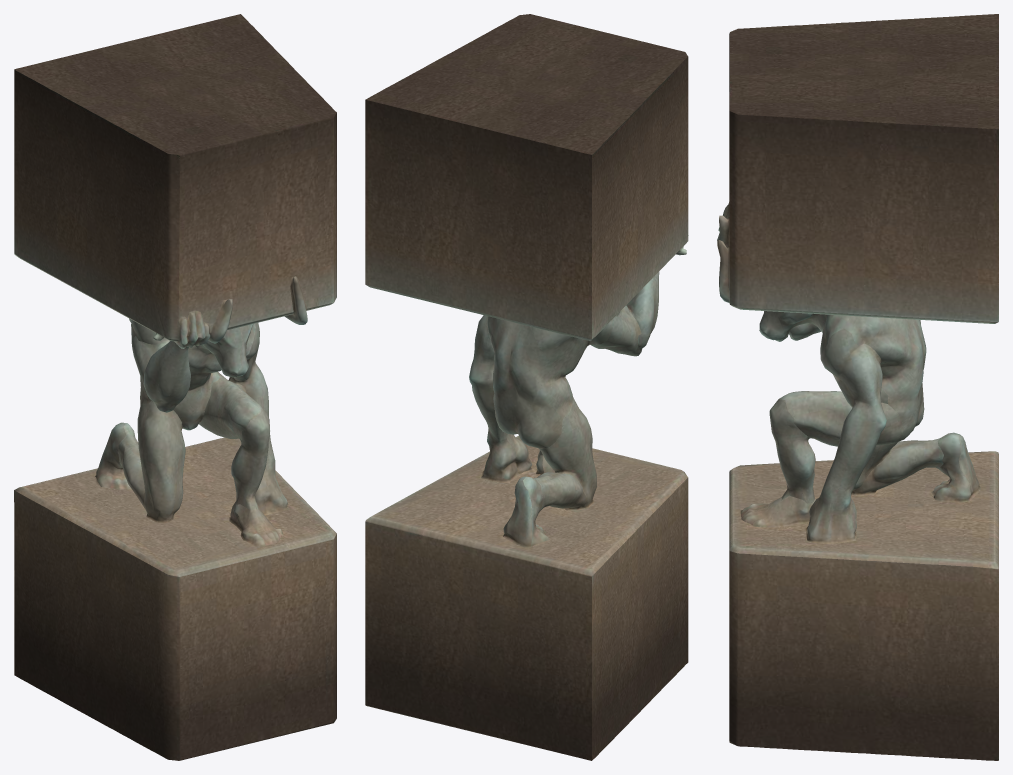
Rendered from minotaur.gltf.
The picture shows the model from 3 angles, left to right: view 1: azimuth 30°, elevation 25°; view 2: azimuth 150°, elevation 25°; view 3: azimuth 270°, elevation 25°; orthographic projection. The views are drawn at different scales.
Parts seen in each view (by area): view 1: SM_MinotaurStatue; view 2: SM_MinotaurStatue; view 3: SM_MinotaurStatue.
Boxes of the visible parts, x1=… form: SM_MinotaurStatue: x1=14, y1=14, x2=336, y2=760; SM_MinotaurStatue: x1=365, y1=14, x2=688, y2=760; SM_MinotaurStatue: x1=717, y1=14, x2=998, y2=760.
Size of the model in its own units: 839 by 2140 by 865.
1 material, 1 textured.
